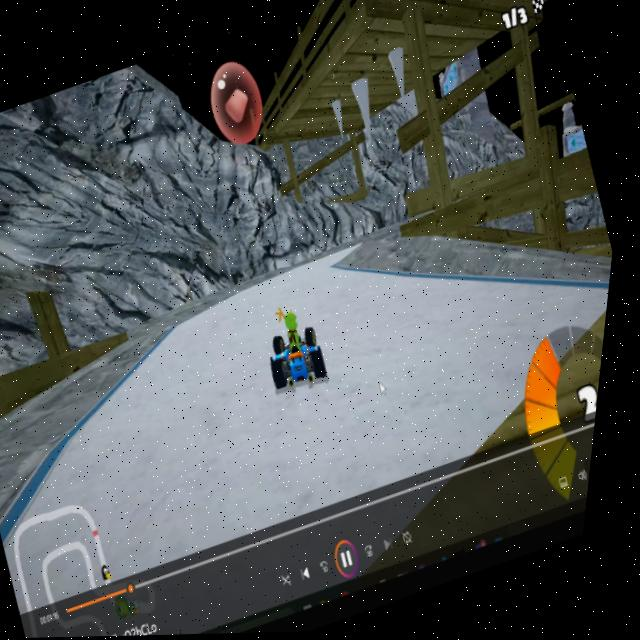off_track: (91, 104, 393, 304), (365, 98, 581, 281)
player_kart: (257, 298, 351, 406)
track: (150, 306, 303, 470), (250, 256, 345, 314)
